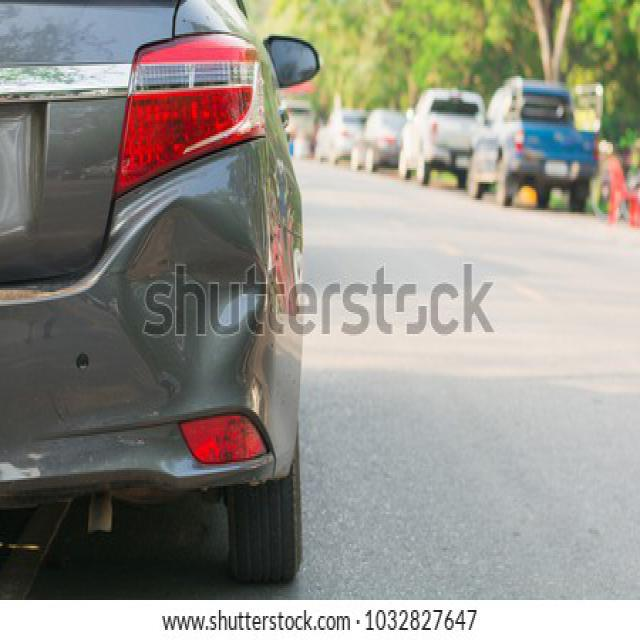rear-bumper-dent: (0, 174, 298, 462)
